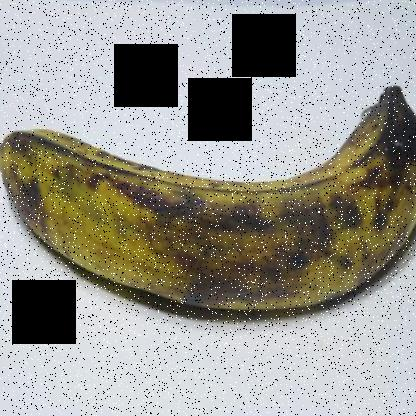overripe: (0, 66, 415, 384)
